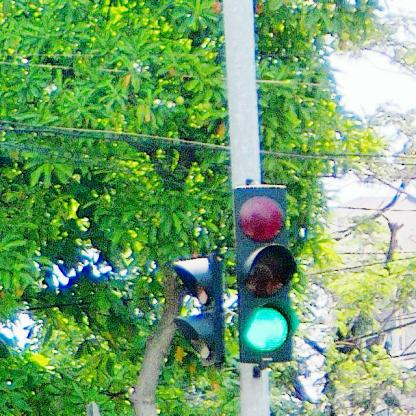Traffic Light -Green-: (235, 186, 293, 364)
